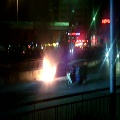fire: (36, 57, 56, 82)
